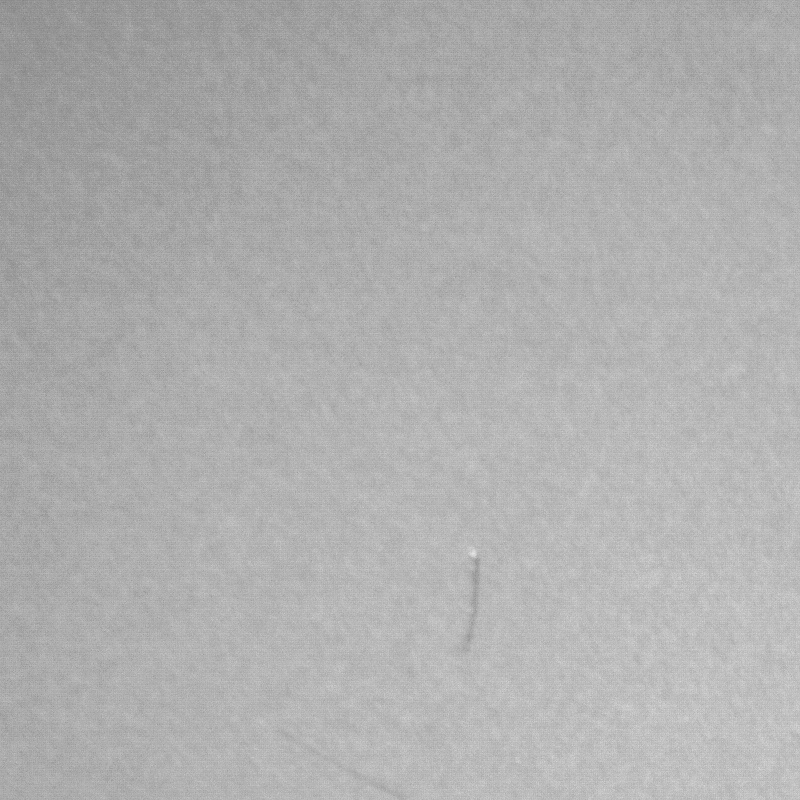defect: (285, 733, 407, 800), (454, 551, 478, 658)
